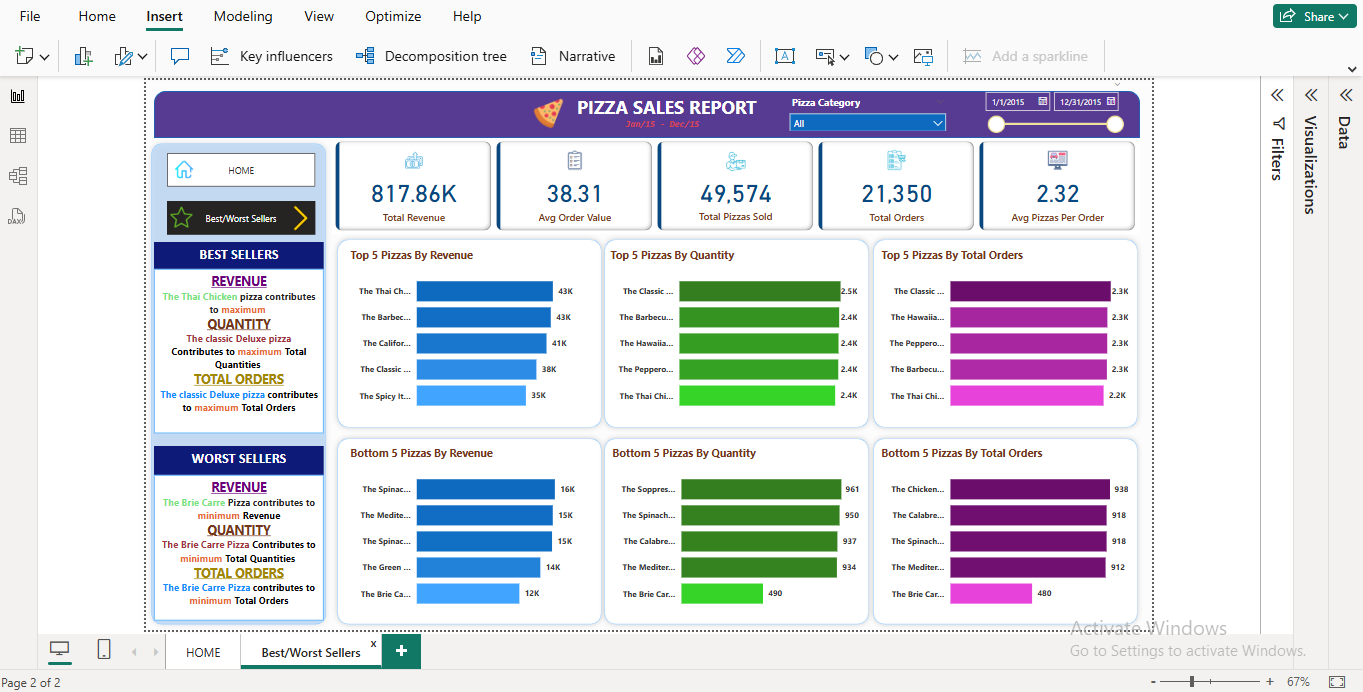

This screenshot's page, from the dashboard's own definition file:
{"tool":"powerbi","page":{"name":"Best/Worst Sellers","canvas":[1500,820],"ordinal":1},"visuals":[{"type":"cardVisual","fields":{"Data":["pizza_sales.Total Revenue","pizza_sales.Avg Order Value","pizza_sales.Total Pizzas Sold","pizza_sales.Total Orders","pizza_sales.Avg Pizzas Per Order"]},"box":[276.7,86.7,1205,143.3],"z":0},{"type":"shape","box":[11.7,16.7,1470,70],"z":1000},{"type":"textbox","box":[276.7,16.7,998.3,46.7],"z":2000},{"type":"textbox","box":[646.7,50,245,36.7],"z":3000},{"type":"image","box":[566.7,21.7,66.7,55],"z":4000},{"type":"shape","box":[276.7,230,410,296.7],"z":5000},{"type":"shape","box":[0,86.7,276.7,733.3],"z":6000},{"type":"textbox","box":[11.7,241.7,253.3,40],"z":7000},{"type":"textbox","box":[11.7,281.7,253.3,245],"z":8000},{"type":"textbox","box":[11.7,545,253.3,43.3],"z":9000},{"type":"textbox","box":[11.7,588.3,253.3,216.7],"z":10000},{"type":"slicer","fields":{"Values":["pizza_sales.pizza_category"]},"box":[950,18.3,253.3,58.3],"z":11000},{"type":"slicer","fields":{"Values":["pizza_sales.order_date"]},"box":[1238.3,0,226.7,86.7],"z":12000},{"type":"shape","box":[675,230,410,296.7],"z":13000},{"type":"shape","box":[1076.7,230,410,296.7],"z":14000},{"type":"shape","box":[276.7,526.7,410,293.3],"z":15000},{"type":"shape","box":[675,526.7,410,293.3],"z":16000},{"type":"shape","box":[1076.7,526.7,410,293.3],"z":17000},{"type":"barChart","title":"Top 5 Pizzas By Revenue","fields":{"Category":["pizza_sales.pizza_name"],"Y":["pizza_sales.Total Revenue"]},"box":[300,250,363.3,256.7],"z":18000},{"type":"barChart","title":"Bottom 5 Pizzas By Revenue","fields":{"Category":["pizza_sales.pizza_name"],"Y":["pizza_sales.Total Revenue"]},"box":[300,545,363.3,256.7],"z":19000},{"type":"barChart","title":"Top 5 Pizzas By Quantity","fields":{"Category":["pizza_sales.pizza_name"],"Y":["pizza_sales.Total Pizzas Sold"]},"box":[686.7,250,378.3,256.7],"z":20000},{"type":"barChart","title":"Bottom 5 Pizzas By Quantity","fields":{"Category":["pizza_sales.pizza_name"],"Y":["pizza_sales.Total Pizzas Sold"]},"box":[690,545,378.3,256.7],"z":21000},{"type":"barChart","title":"Top 5 Pizzas By Total Orders","fields":{"Category":["pizza_sales.pizza_name"],"Y":["pizza_sales.Total Orders"]},"box":[1091.7,250,378.3,256.7],"z":22000},{"type":"barChart","title":"Bottom 5 Pizzas By Total Orders","fields":{"Category":["pizza_sales.pizza_name"],"Y":["pizza_sales.Total Orders"]},"box":[1091.7,545,378.3,256.7],"z":23000},{"type":"pageNavigator","box":[31.7,108.3,221.7,50],"z":23001},{"type":"pageNavigator","box":[31.7,180,221.7,50],"z":23002},{"type":"image","box":[206.7,180,46.7,50],"z":23003},{"type":"image","box":[31.7,115,50,36.7],"z":23004},{"type":"image","box":[31.7,178.3,43.3,51.7],"z":23005}]}

Visuals, with their boxes on the page's 1500x820 design canvas (x1, y1, x2, y2). These are canvas units, not pixel positions in the 1363x692 screenshot, which may show the page scaled, cropped or inside an application window:
cardVisual - pizza_sales.Total Revenue x pizza_sales.Avg Order Value: x1=277 y1=87 x2=1482 y2=230
shape: x1=12 y1=17 x2=1482 y2=87
textbox: x1=277 y1=17 x2=1275 y2=63
textbox: x1=647 y1=50 x2=892 y2=87
image: x1=567 y1=22 x2=633 y2=77
shape: x1=277 y1=230 x2=687 y2=527
shape: x1=0 y1=87 x2=277 y2=820
textbox: x1=12 y1=242 x2=265 y2=282
textbox: x1=12 y1=282 x2=265 y2=527
textbox: x1=12 y1=545 x2=265 y2=588
textbox: x1=12 y1=588 x2=265 y2=805
slicer - pizza_sales.pizza_category: x1=950 y1=18 x2=1203 y2=77
slicer - pizza_sales.order_date: x1=1238 y1=0 x2=1465 y2=87
shape: x1=675 y1=230 x2=1085 y2=527
shape: x1=1077 y1=230 x2=1487 y2=527
shape: x1=277 y1=527 x2=687 y2=820
shape: x1=675 y1=527 x2=1085 y2=820
shape: x1=1077 y1=527 x2=1487 y2=820
"Top 5 Pizzas By Revenue" barChart: x1=300 y1=250 x2=663 y2=507
"Bottom 5 Pizzas By Revenue" barChart: x1=300 y1=545 x2=663 y2=802
"Top 5 Pizzas By Quantity" barChart: x1=687 y1=250 x2=1065 y2=507
"Bottom 5 Pizzas By Quantity" barChart: x1=690 y1=545 x2=1068 y2=802
"Top 5 Pizzas By Total Orders" barChart: x1=1092 y1=250 x2=1470 y2=507
"Bottom 5 Pizzas By Total Orders" barChart: x1=1092 y1=545 x2=1470 y2=802
pageNavigator: x1=32 y1=108 x2=253 y2=158
pageNavigator: x1=32 y1=180 x2=253 y2=230
image: x1=207 y1=180 x2=253 y2=230
image: x1=32 y1=115 x2=82 y2=152
image: x1=32 y1=178 x2=75 y2=230
